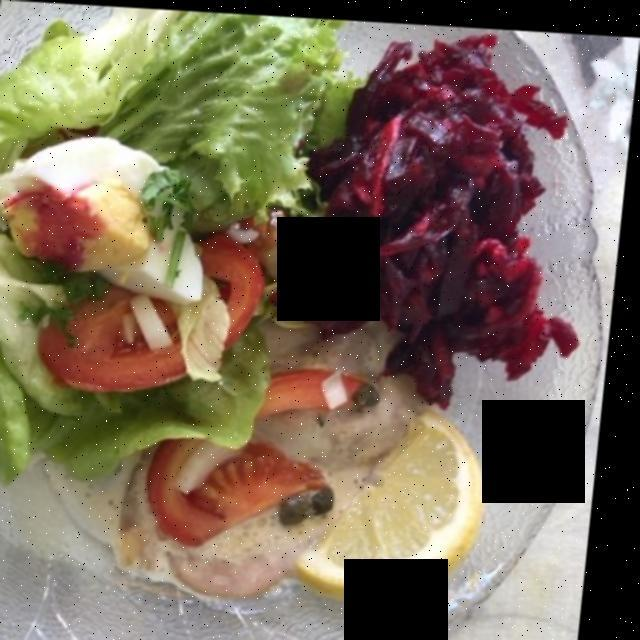beetroot: (288, 39, 573, 393)
egg: (4, 139, 199, 295)
salad: (0, 31, 326, 471)
